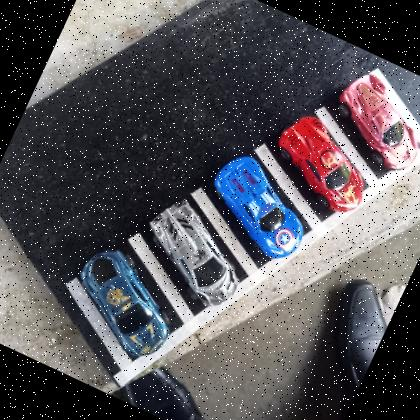Car: (56, 238, 192, 366), (128, 190, 261, 314), (194, 148, 324, 266), (261, 108, 385, 220), (319, 65, 420, 178)
